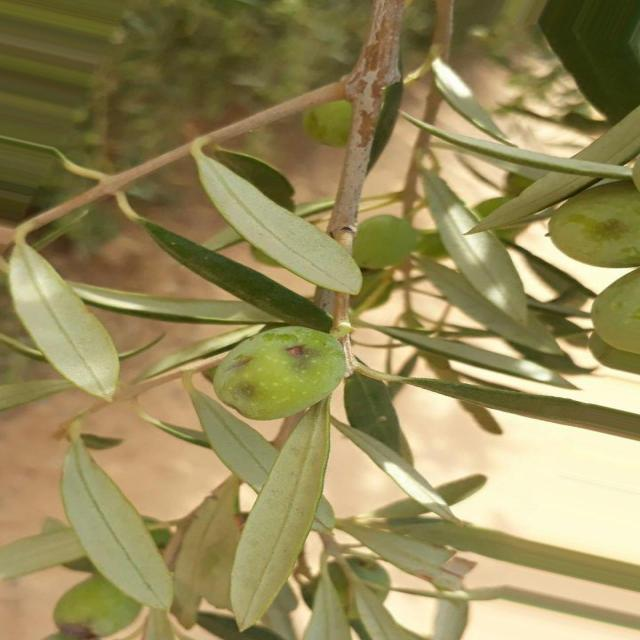Olive Fruit Fly: (212, 326, 346, 420), (548, 180, 639, 268)
